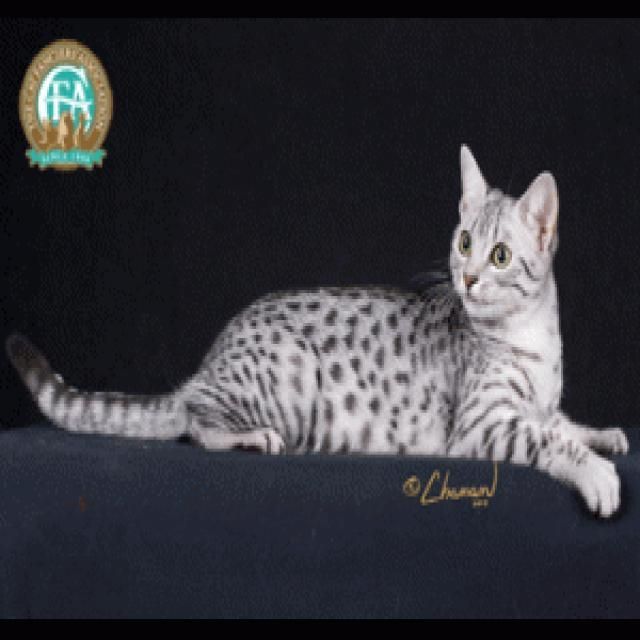Egyptian_Mau: (436, 141, 565, 342)
